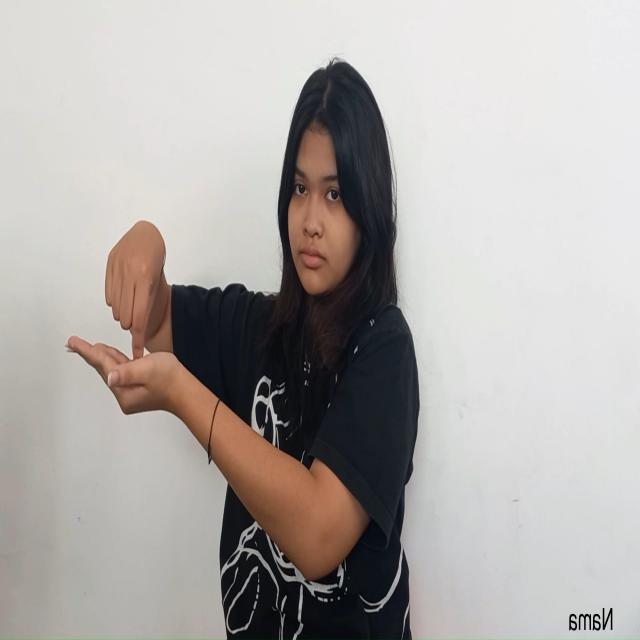Nama -BISINDO-: (65, 221, 186, 416)
